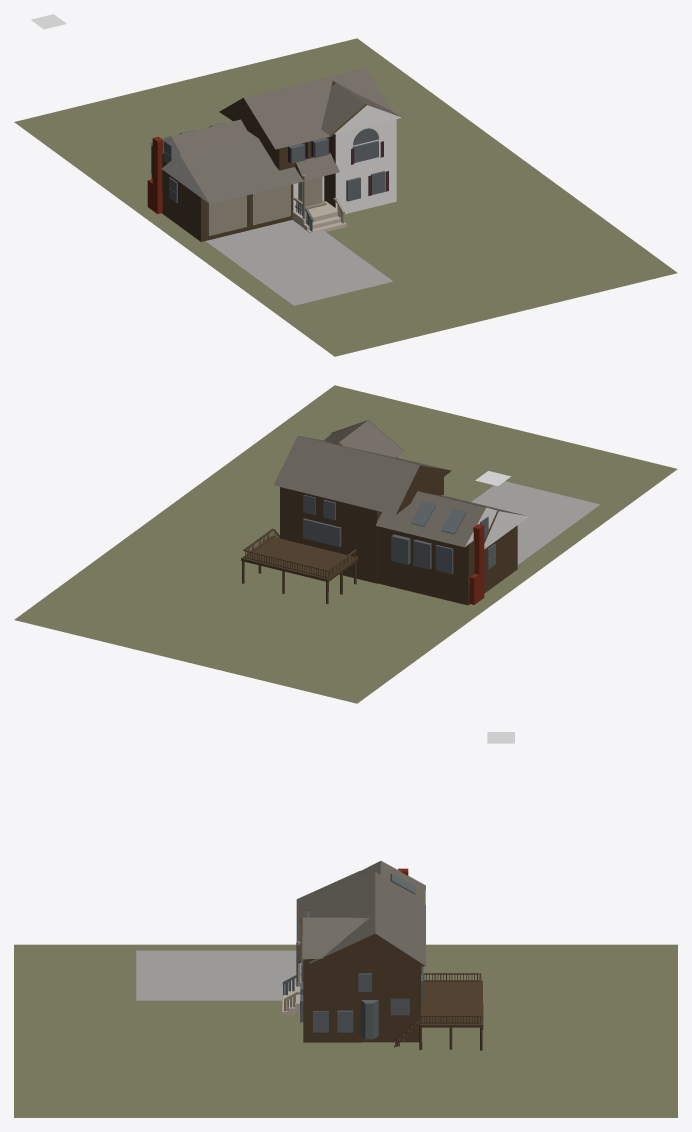
Rendered from 49 Maler 7.9 .fbx.
3 renders of one model, top to bottom at view 1: azimuth 30°, elevation 25°; view 2: azimuth 150°, elevation 25°; view 3: azimuth 270°, elevation 25°, orthographic. The views are drawn at different scales.
Parts seen in each view (by area): view 1: Plane.010, Cylinder.007, Plane.009; view 2: Plane.010, Cylinder.007, Plane.009; view 3: Plane.010, Cylinder.007, Plane.009.
Boxes of the visible parts, x1,y1,x2,y2 form: Plane.010: (14, 38, 677, 356); Cylinder.007: (147, 68, 402, 241); Plane.009: (206, 220, 392, 305); Plane.010: (14, 385, 677, 703); Cylinder.007: (241, 420, 528, 605); Plane.009: (471, 481, 600, 564); Plane.010: (14, 944, 677, 1117); Cylinder.007: (282, 860, 483, 1050); Plane.009: (136, 950, 302, 1000).
Bounding box in the file's own units: 3500 × 1462 × 4796.
